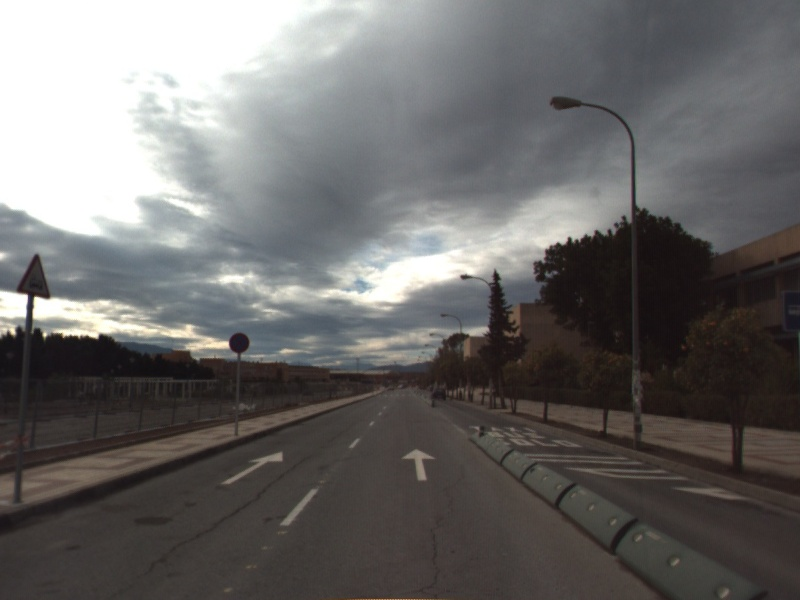STRAIGHT: (218, 449, 285, 486), (399, 446, 438, 483)
